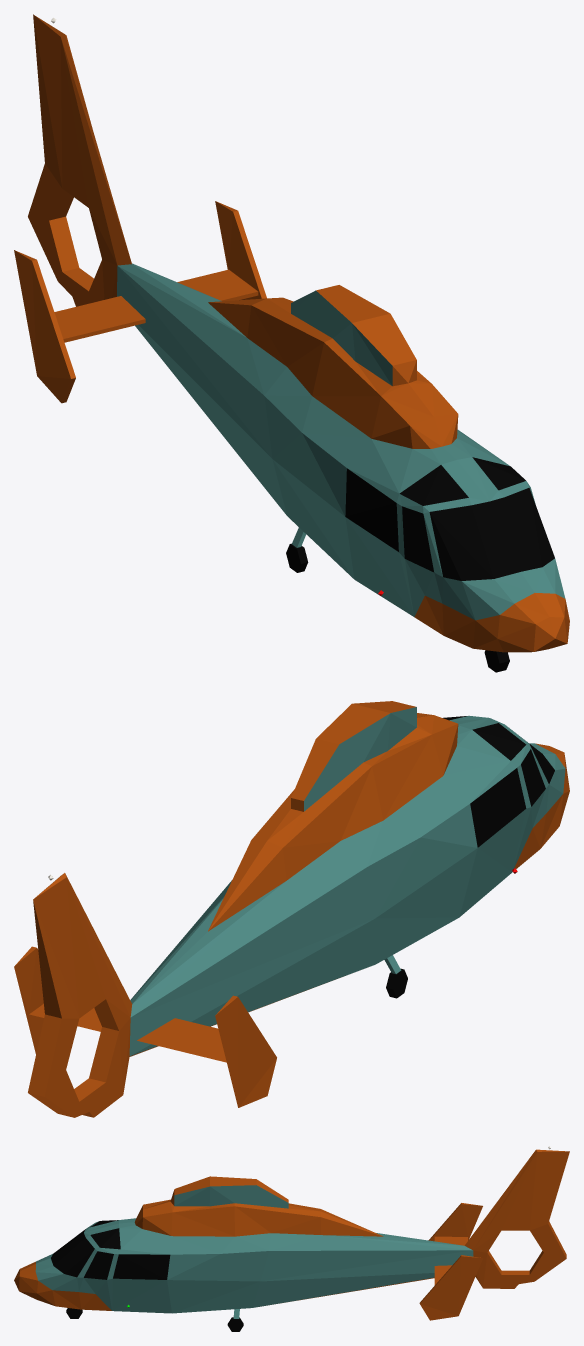
File: DAUPHIN.glb
3 views of the same model, one above another, from view 1: azimuth 30°, elevation 25°; view 2: azimuth 150°, elevation 25°; view 3: azimuth 270°, elevation 25° (orthographic). The views are drawn at different scales.
Parts seen in each view (by area): view 1: DAUPHIN | archived geometry; view 2: DAUPHIN | archived geometry; view 3: DAUPHIN | archived geometry.
Boxes of the visible parts, x1,y1,x2,y2 form: DAUPHIN | archived geometry: (14, 14, 569, 672); DAUPHIN | archived geometry: (14, 701, 569, 1117); DAUPHIN | archived geometry: (14, 1149, 569, 1331).
Size of the model in its own units: 2.31 by 3.47 by 10.15.
